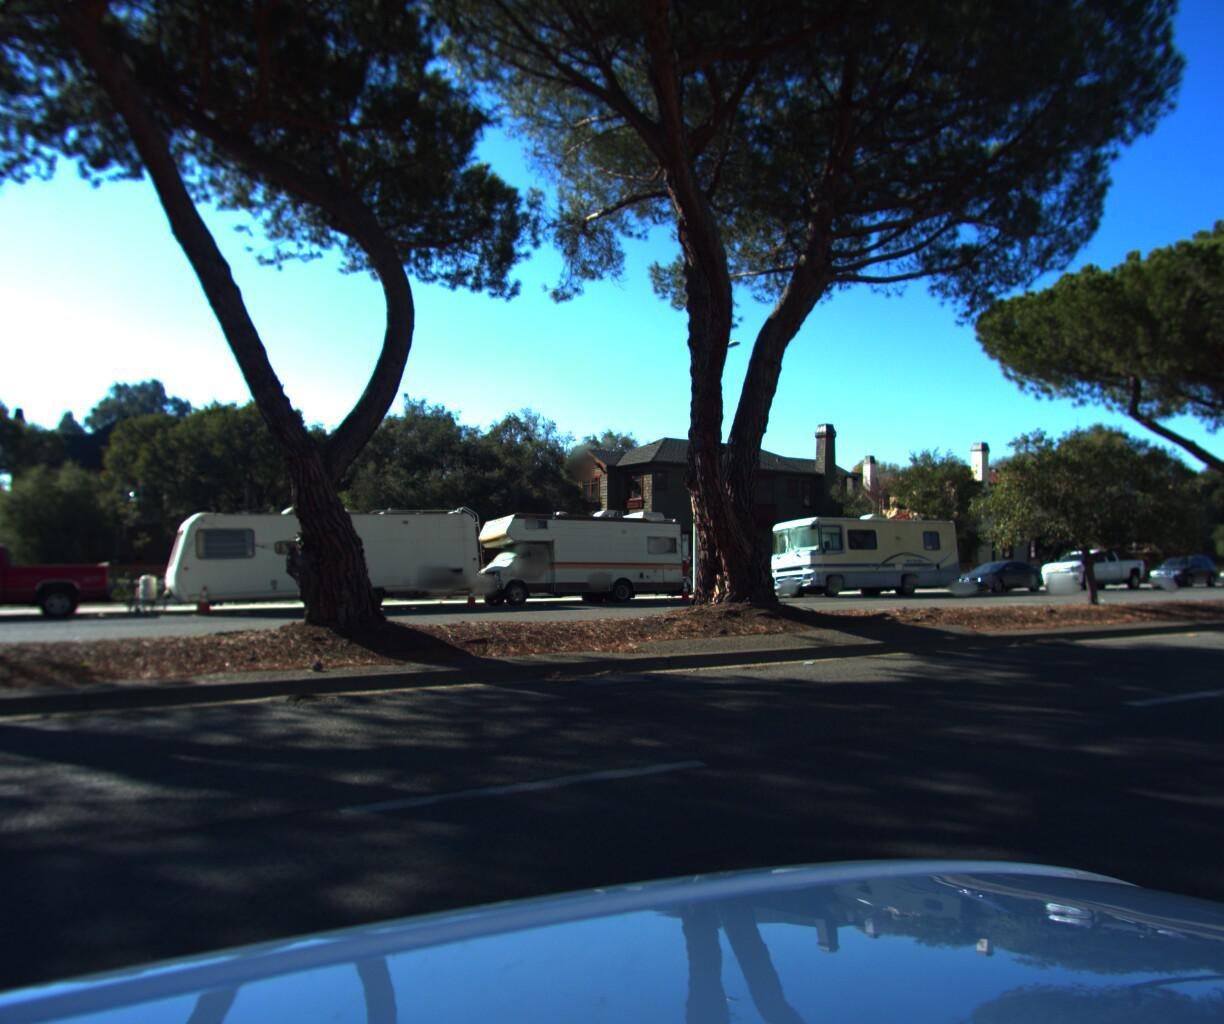car: (0, 537, 125, 631), (1030, 544, 1151, 595), (944, 558, 1047, 597), (1137, 551, 1218, 589), (1206, 554, 1224, 586)
other_vehicle: (152, 484, 490, 622), (465, 498, 724, 605), (757, 507, 963, 600)
